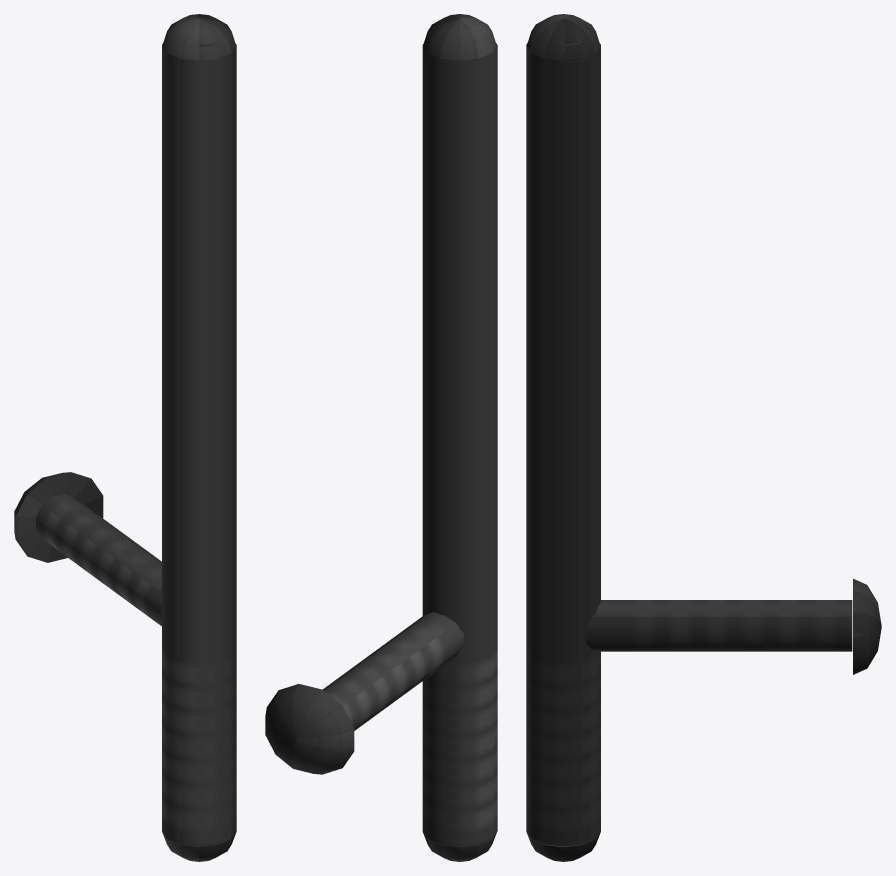
File: baton.fbx
3 renders of one model, left to right at view 1: azimuth 30°, elevation 25°; view 2: azimuth 150°, elevation 25°; view 3: azimuth 270°, elevation 25°, orthographic.
Visible parts, largest first — view 1: baton; view 2: baton; view 3: baton.
Boxes of the visible parts, x1,y1,x2,y2 form: baton: [14, 14, 236, 861]; baton: [265, 14, 497, 861]; baton: [526, 14, 881, 861].
Size of the model in its own units: 8.75 by 80.08 by 30.76.
Materials: 1 (1 with a texture image).
